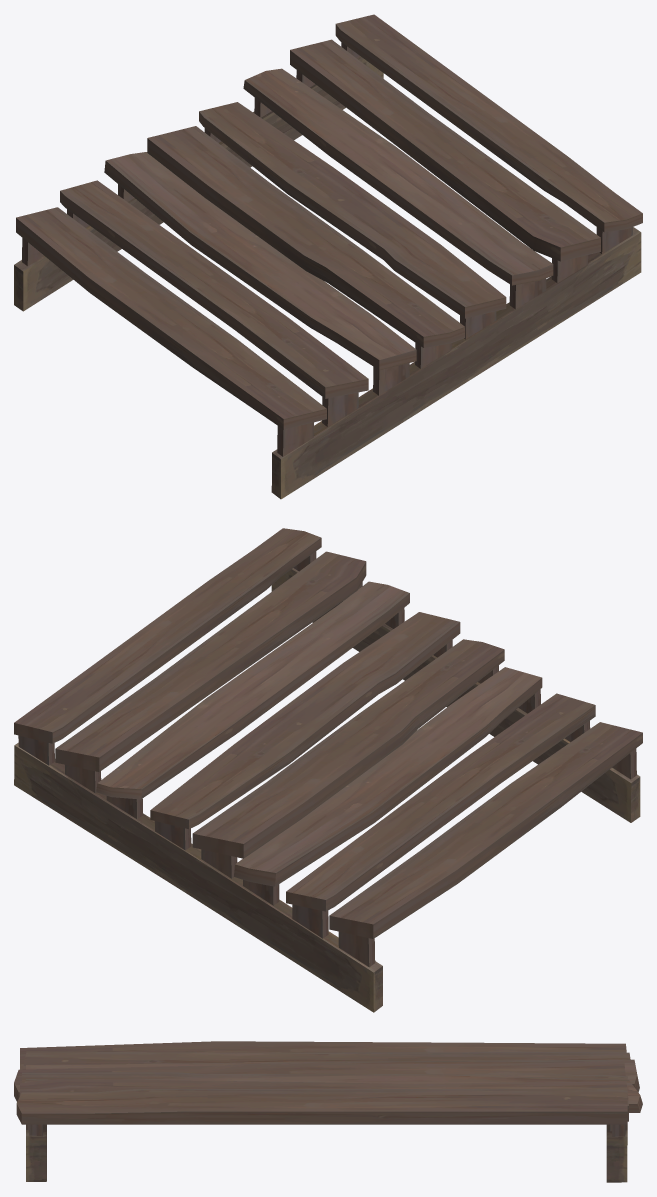
Rendered from Area_MdBuild_Wharf02.fbx.
The picture shows the model from 3 angles, top to bottom: view 1: azimuth 30°, elevation 25°; view 2: azimuth 150°, elevation 25°; view 3: azimuth 270°, elevation 25°; orthographic projection. The views are drawn at different scales.
Visible parts, largest first — view 1: Area_MdBuild_Wharf02_Lod0; view 2: Area_MdBuild_Wharf02_Lod0; view 3: Area_MdBuild_Wharf02_Lod0.
Part boxes in pixels (left/top/right/bottom): Area_MdBuild_Wharf02_Lod0: left=14, top=14, right=642, bottom=499; Area_MdBuild_Wharf02_Lod0: left=14, top=528, right=642, bottom=1012; Area_MdBuild_Wharf02_Lod0: left=14, top=1041, right=642, bottom=1182.
Bounding box in the file's own units: 40.75 × 21.62 × 54.01.
Materials: 2 (2 with a texture image).
